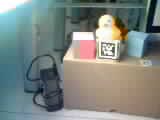duck: (87, 6, 117, 43)
